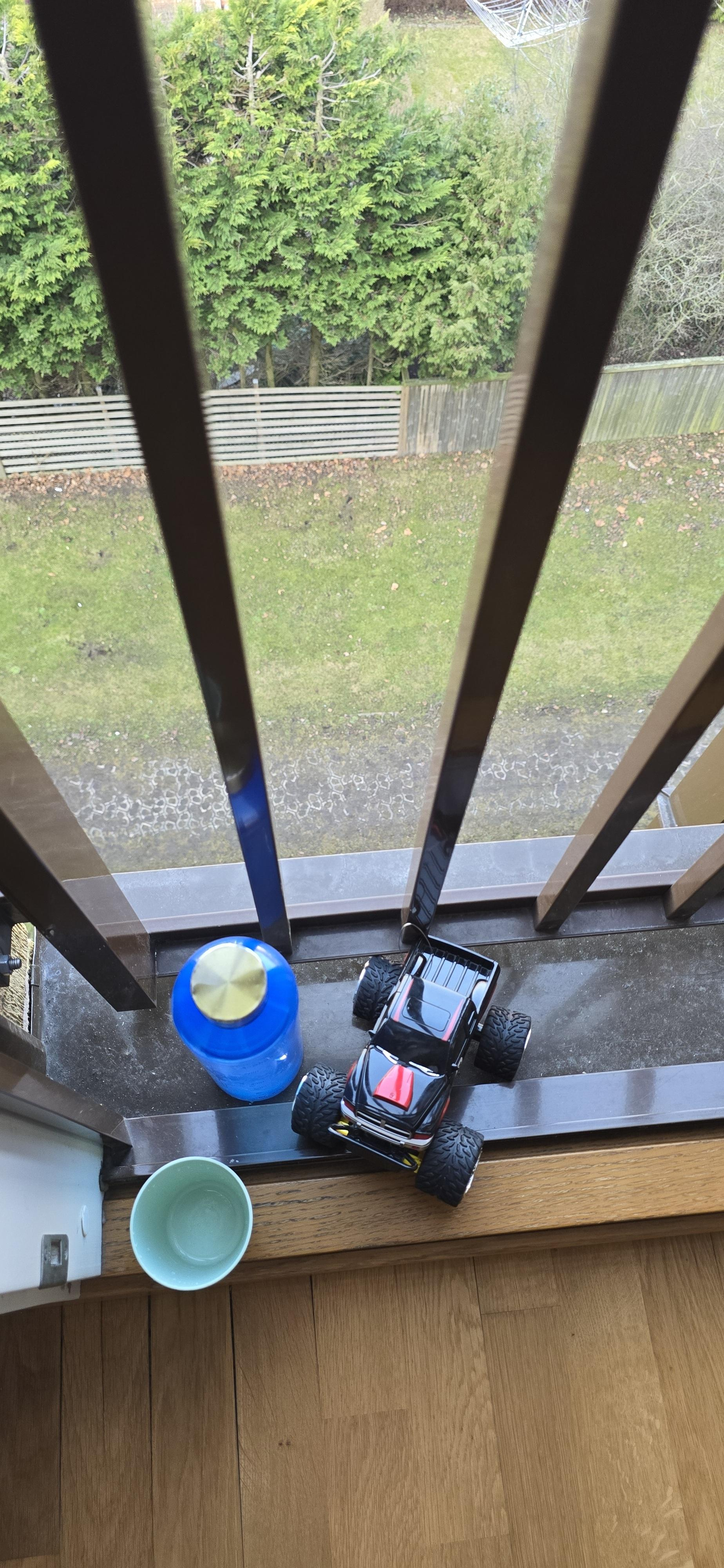bottle: (180, 930, 310, 1119)
